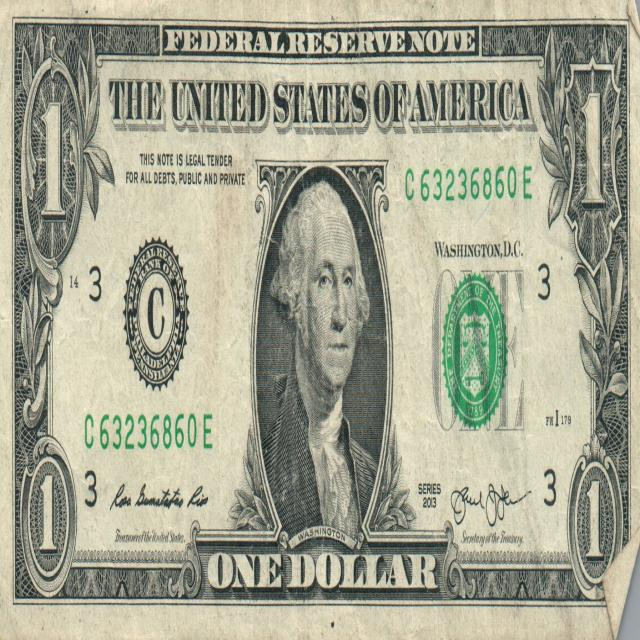SerialNumber: (85, 413, 212, 449), (406, 166, 531, 201)
